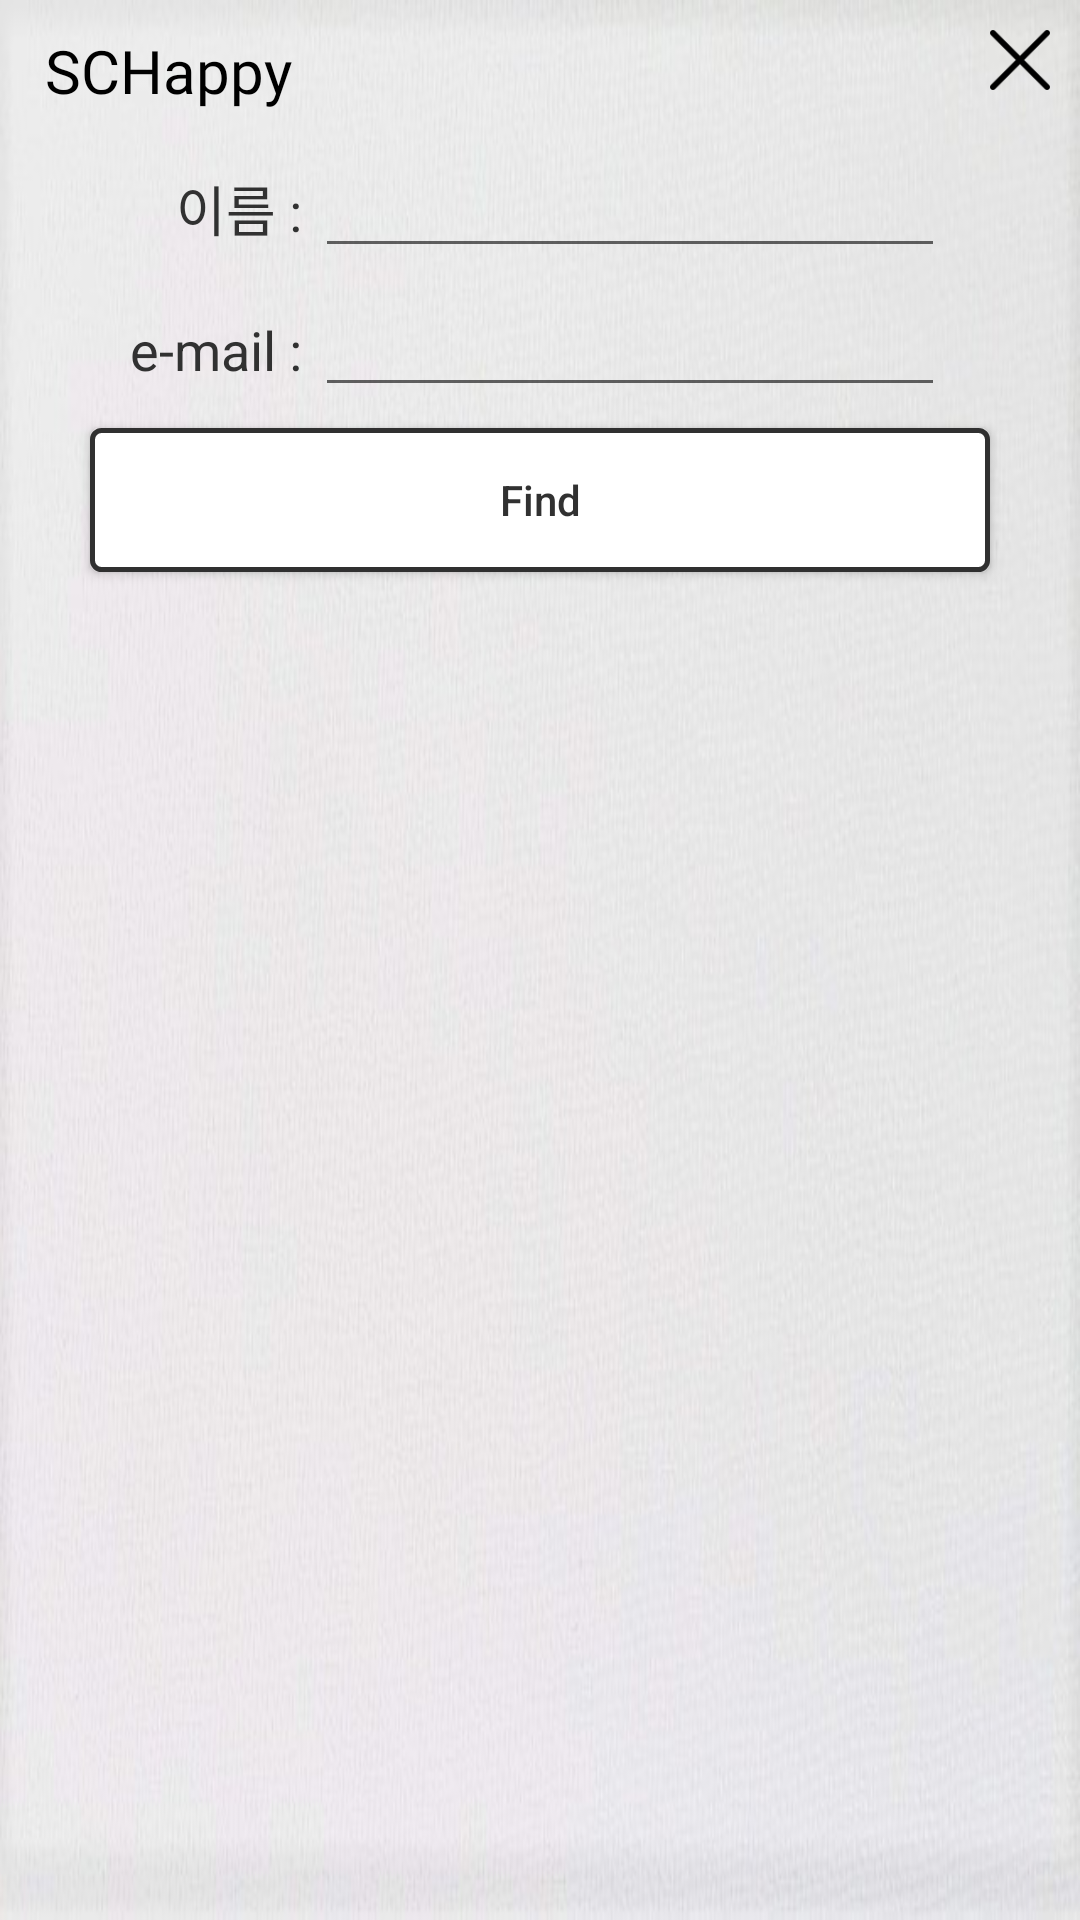

Point at icon controls on the screen. Image size 1080 x 1920, points as point (x, y).
exit: point (1020, 60)
